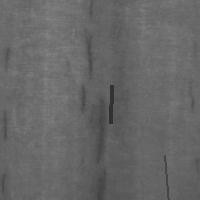inclusion: (83, 89, 108, 166), (77, 27, 99, 82), (93, 164, 108, 200), (1, 106, 15, 144), (184, 80, 198, 113), (3, 46, 18, 74), (162, 153, 170, 200), (79, 81, 89, 116), (108, 83, 113, 125)
